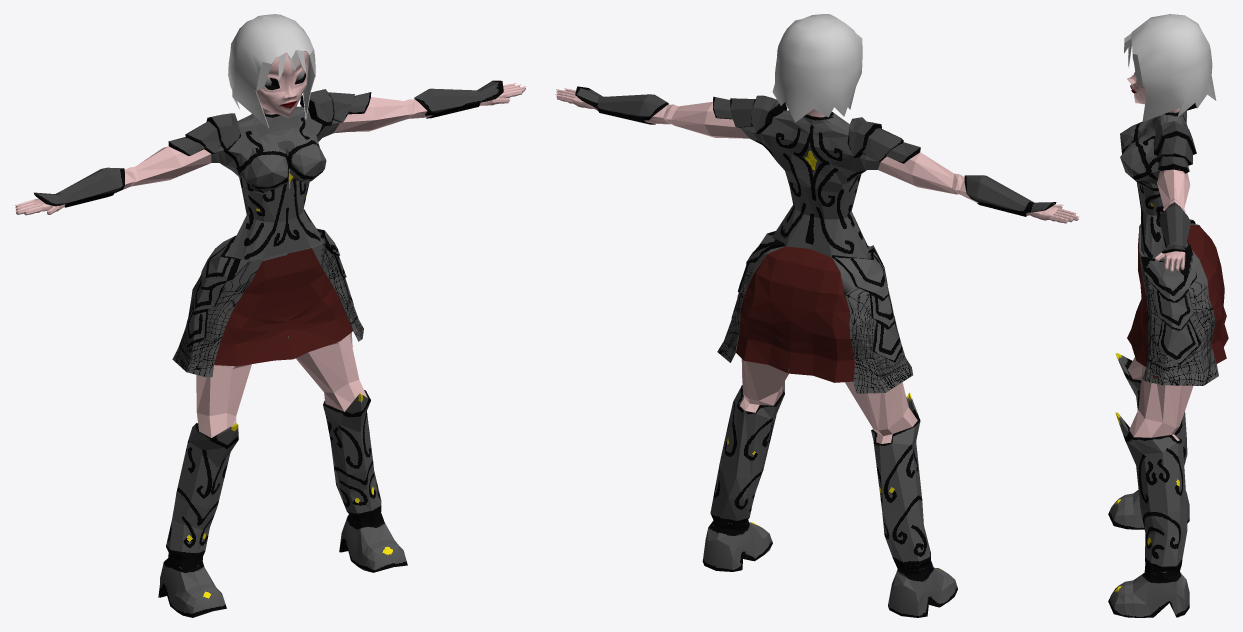
File: MISAMO.fbx
The picture shows the model from 3 angles, left to right: view 1: azimuth 30°, elevation 25°; view 2: azimuth 150°, elevation 25°; view 3: azimuth 270°, elevation 25°; orthographic projection. The views are drawn at different scales.
Parts seen in each view (by area): view 1: tetas, PELO; view 2: tetas, PELO; view 3: tetas, PELO.
Boxes of the visible parts, <box> form: tetas: <box>15,51,526,617</box>; PELO: <box>228,14,315,127</box>; tetas: <box>555,86,1079,617</box>; PELO: <box>772,14,862,122</box>; tetas: <box>1108,56,1228,617</box>; PELO: <box>1124,14,1216,121</box>.
Bounding box in the file's own units: 1959 × 2024 × 405.
